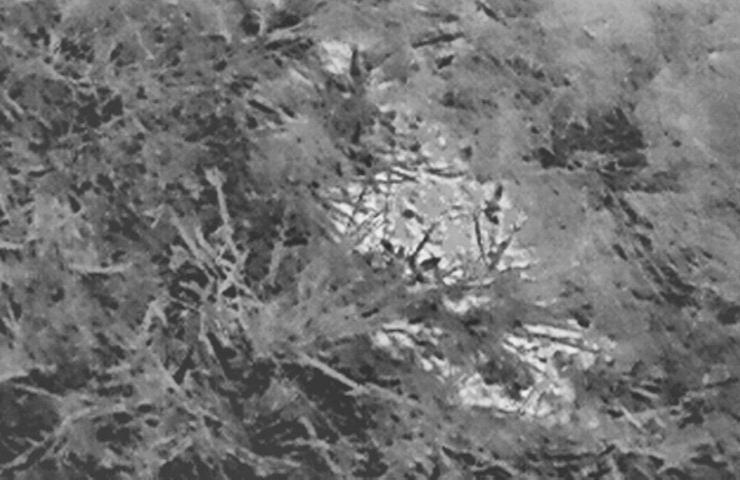landmines: (331, 149, 542, 303)
